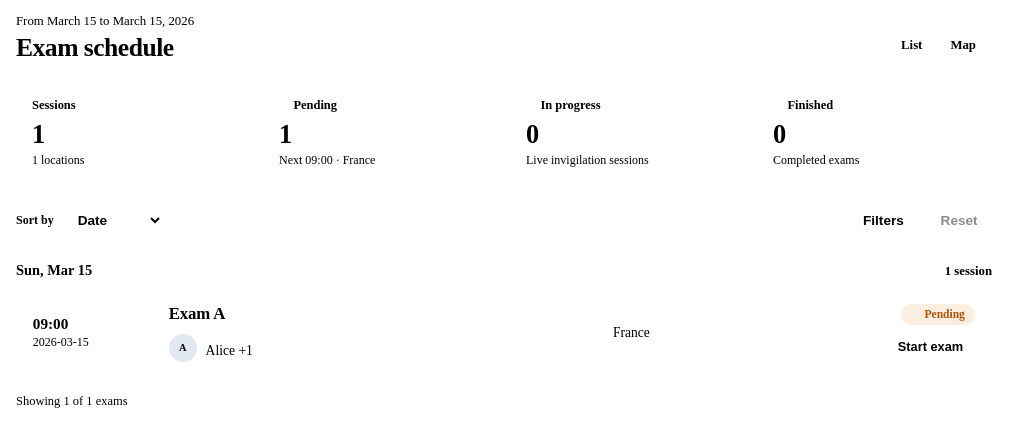
Test: ExamList › status advance › advances a pending exam to started without a full page reload
expect the heading "Exam A" is shown: met, box 169,304 -> 225,324
expect the text "Pending" is shown: met, box 293,98 -> 337,112
Click the button "Start exam" at [931, 347], box 886,332 -> 975,362
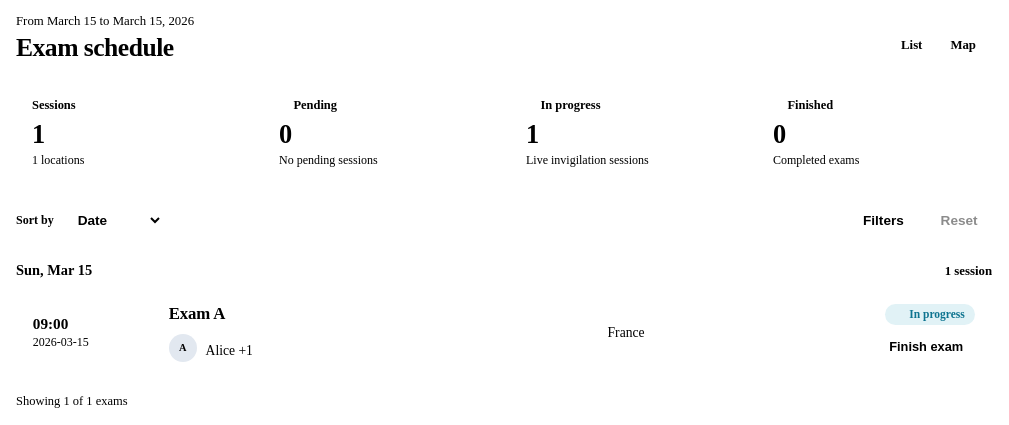
expect the text "In progress" is shown: met, box 540,98 -> 601,112
expect the button "Finish exam" is shown: met, box 877,332 -> 975,362
expect the button "Start exam" is gone: met
